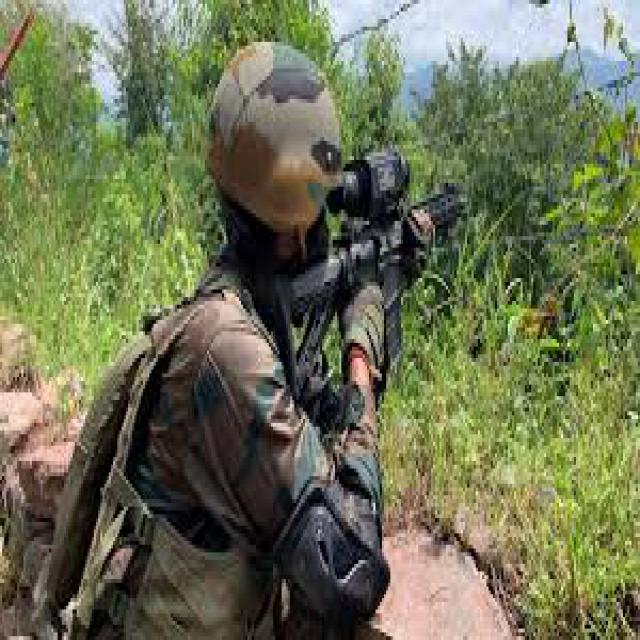long weapon: (253, 162, 471, 367)
